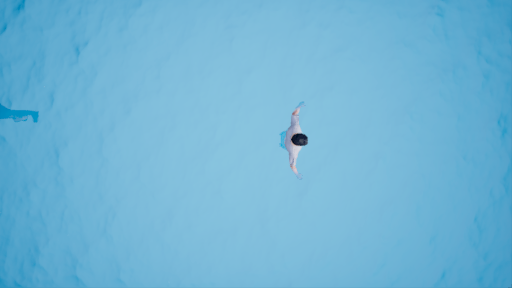person: (269, 107, 320, 177)
